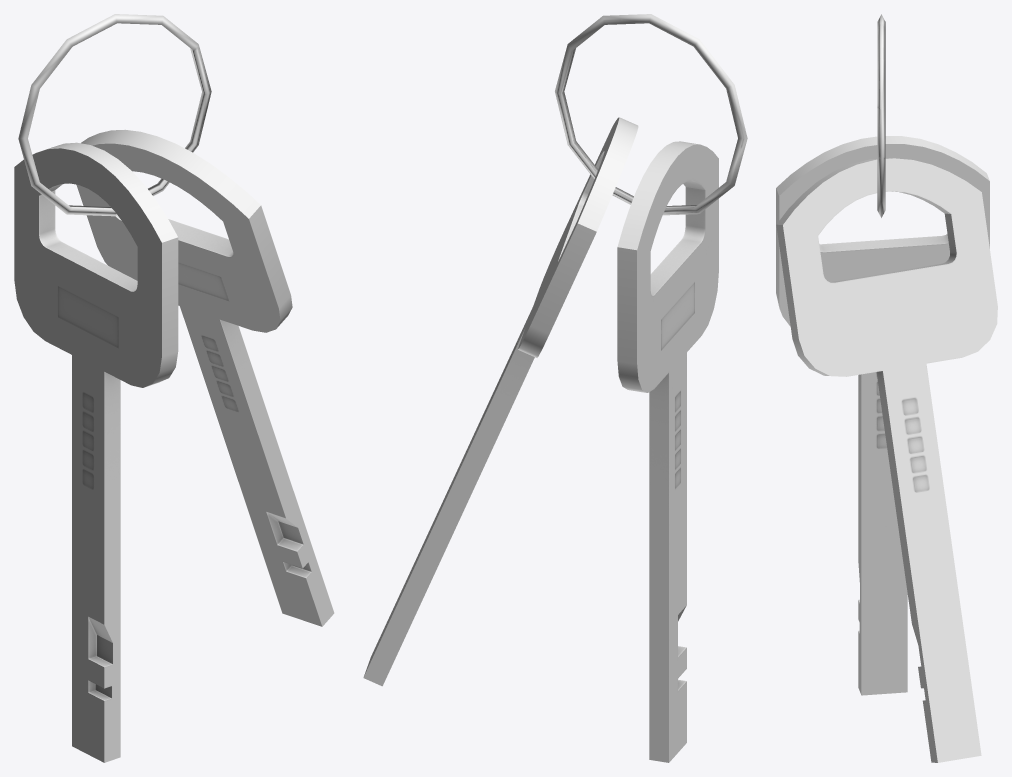
File: keyattach_low.glb
3 renders of one model, left to right at view 1: azimuth 30°, elevation 25°; view 2: azimuth 150°, elevation 25°; view 3: azimuth 270°, elevation 25°, orthographic. The views are drawn at different scales.
Parts seen in each view (by area): view 1: key_low.001, key_low.002, kayattach_low; view 2: key_low.001, key_low.002, kayattach_low; view 3: key_low.002, key_low.001, kayattach_low.
Part boxes in pixels (x1,y1,x2,y2): key_low.001: (14, 142, 178, 762); key_low.002: (76, 129, 334, 626); kayattach_low: (18, 14, 211, 216); key_low.001: (617, 141, 718, 762); key_low.002: (363, 117, 638, 686); kayattach_low: (555, 14, 747, 215); key_low.002: (776, 158, 997, 762); key_low.001: (776, 136, 989, 695); kayattach_low: (877, 14, 885, 217).
Bounding box in the file's own units: 0.1759 × 0.3558 × 0.1061.
1 material, 1 textured.
